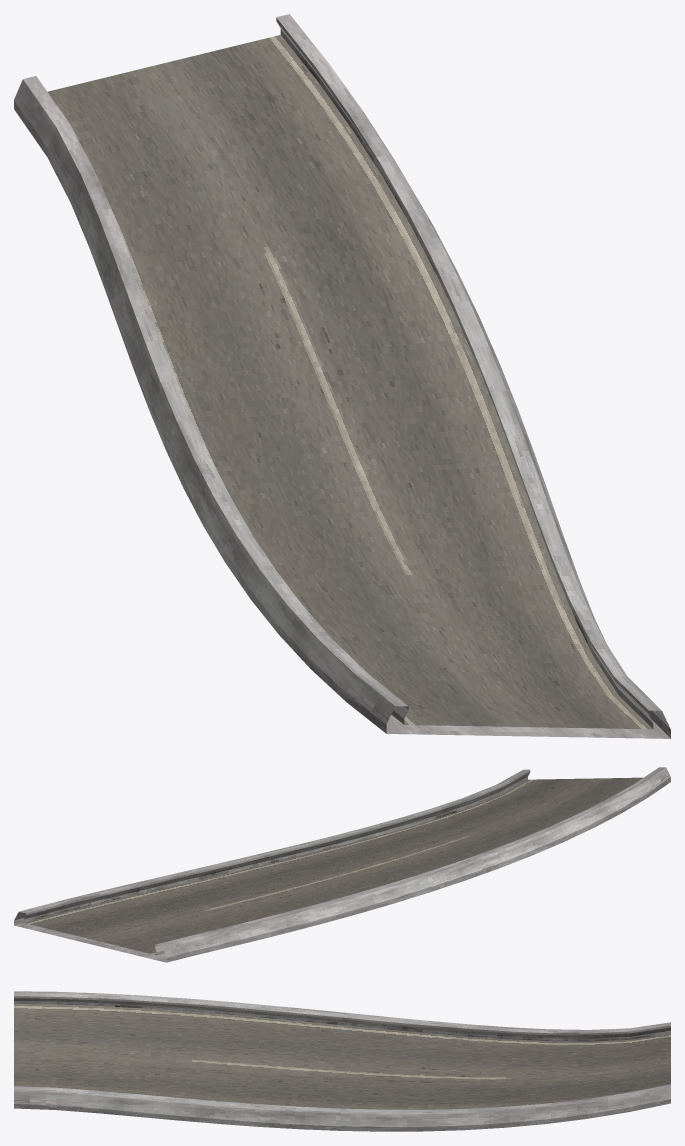
The model's file is chicane-right1x4.glb.
3 views of the same model, one above another, from view 1: azimuth 30°, elevation 25°; view 2: azimuth 150°, elevation 25°; view 3: azimuth 270°, elevation 25° (orthographic). The views are drawn at different scales.
Parts seen in each view (by area): view 1: road-Chicane-HalfBankedRight-BiSlopeUp-Up2-Right1-Size4; view 2: road-Chicane-HalfBankedRight-BiSlopeUp-Up2-Right1-Size4; view 3: road-Chicane-HalfBankedRight-BiSlopeUp-Up2-Right1-Size4.
Boxes of the visible parts, box(x1,y1,x2,y2) form: road-Chicane-HalfBankedRight-BiSlopeUp-Up2-Right1-Size4: box(14, 14, 670, 738); road-Chicane-HalfBankedRight-BiSlopeUp-Up2-Right1-Size4: box(14, 767, 670, 962); road-Chicane-HalfBankedRight-BiSlopeUp-Up2-Right1-Size4: box(14, 991, 670, 1131).
Size of the model in its own units: 2 by 0.5937 by 4.
2 materials, 2 textured.
